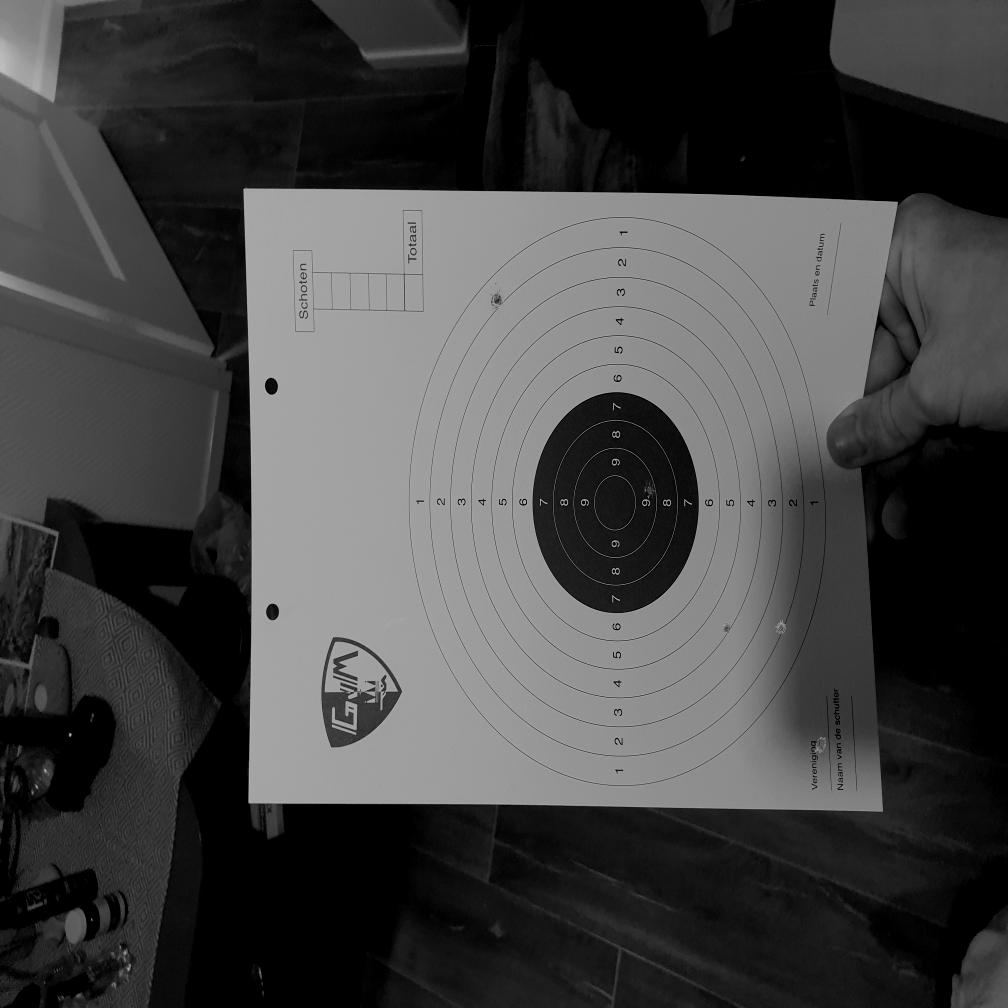0: (815, 735, 827, 754)
2: (489, 290, 504, 310), (775, 619, 786, 635)
4: (722, 620, 731, 634)
9: (642, 480, 657, 500)
Target: (411, 216, 825, 784)
black_contour: (533, 394, 699, 614)
